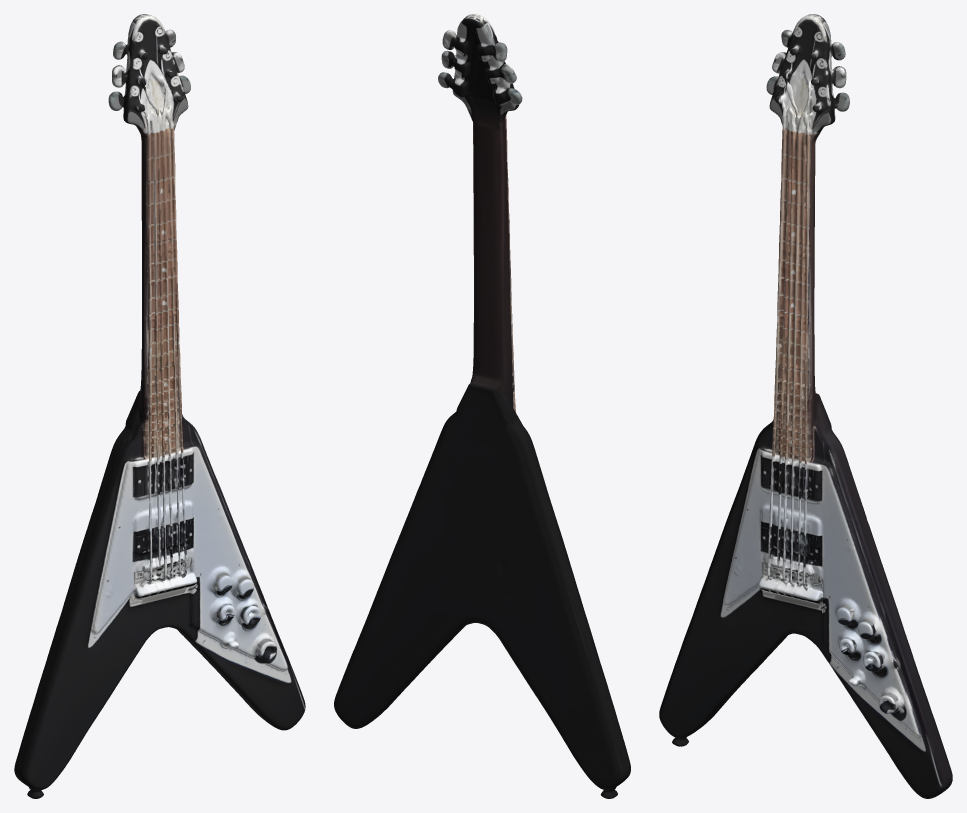
Rendered from guitar3.glb.
The picture shows the model from 3 angles, left to right: view 1: azimuth 30°, elevation 25°; view 2: azimuth 150°, elevation 25°; view 3: azimuth 330°, elevation 25°; orthographic projection. The views are drawn at different scales.
Visible parts, largest first — view 1: tripo_node_6878d9fb-0f5a-40c1-97db-eb2d63010042; view 2: tripo_node_6878d9fb-0f5a-40c1-97db-eb2d63010042; view 3: tripo_node_6878d9fb-0f5a-40c1-97db-eb2d63010042.
Boxes of the visible parts, x1,y1,x2,y2 form: tripo_node_6878d9fb-0f5a-40c1-97db-eb2d63010042: [14, 14, 305, 798]; tripo_node_6878d9fb-0f5a-40c1-97db-eb2d63010042: [334, 14, 630, 798]; tripo_node_6878d9fb-0f5a-40c1-97db-eb2d63010042: [659, 14, 952, 798].
Size of the model in its own units: 0.3998 by 1 by 0.074.
1 material, 1 textured.
